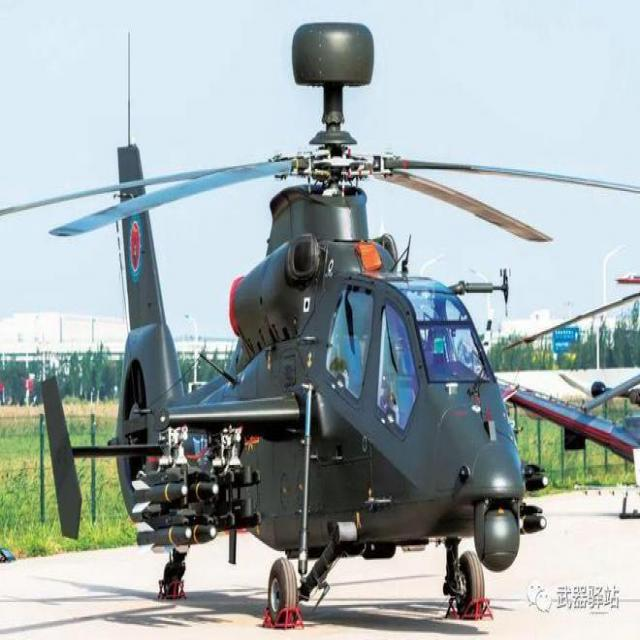MIL_HELO: (7, 0, 640, 631)
